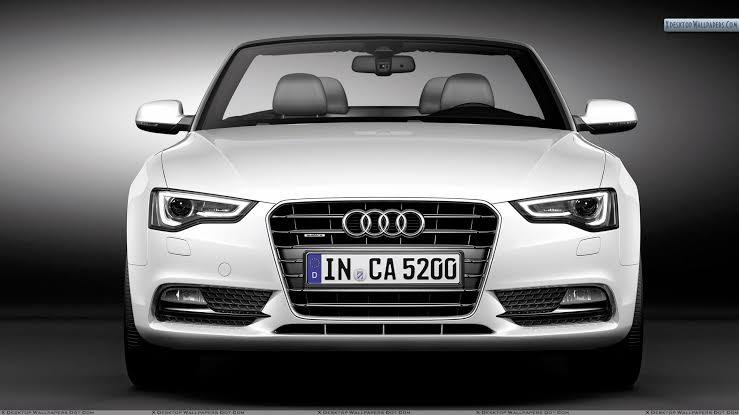audi: (104, 17, 649, 393)
